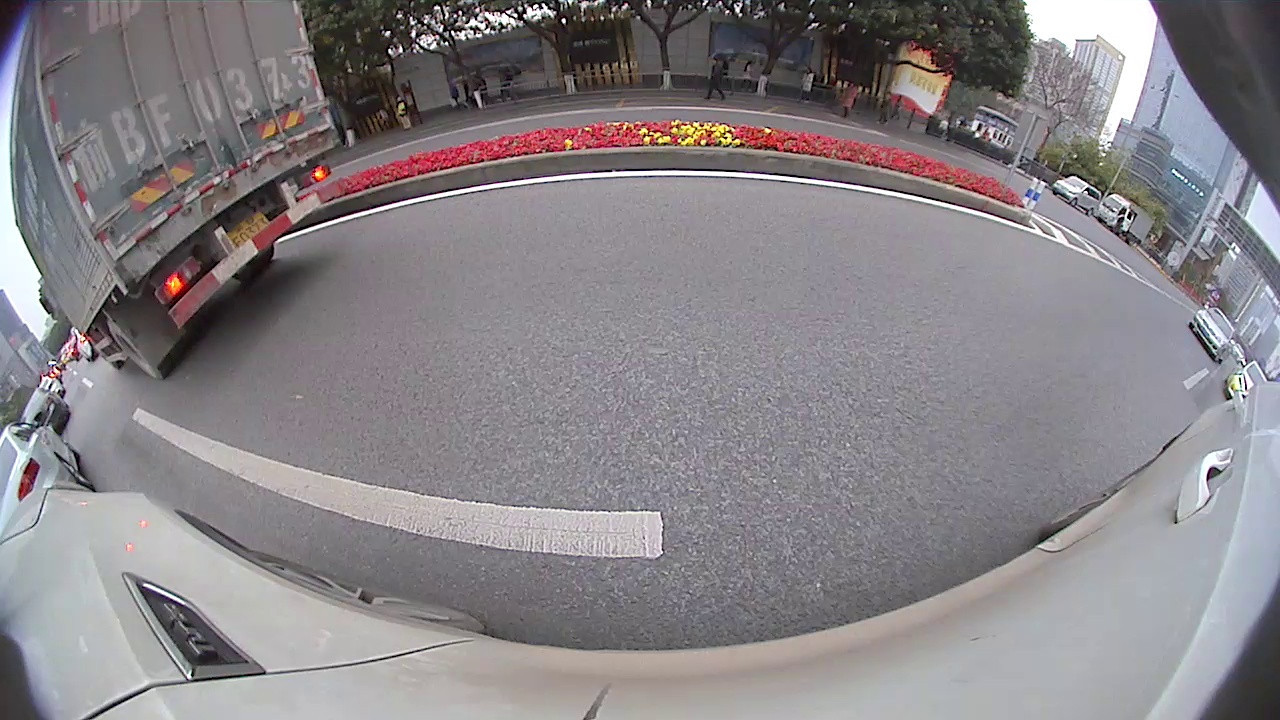car: (272, 1, 886, 284), (822, 99, 990, 217), (62, 213, 163, 317), (1155, 337, 1240, 445), (1128, 294, 1183, 352), (43, 271, 86, 326)
front: (752, 199, 849, 285), (955, 188, 985, 221), (89, 279, 112, 312)
rear: (341, 197, 423, 277), (875, 154, 907, 190)
